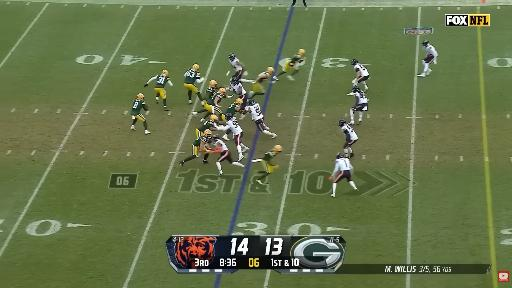Helmet: (209, 114, 217, 122), (230, 77, 238, 85), (352, 85, 360, 93), (273, 146, 282, 153), (267, 67, 276, 74), (204, 130, 211, 138), (225, 113, 232, 121), (297, 49, 305, 56), (247, 98, 254, 106), (210, 80, 217, 87), (219, 88, 226, 95), (339, 119, 346, 126), (193, 65, 200, 71), (230, 53, 236, 60), (213, 135, 219, 142), (236, 99, 243, 105), (352, 59, 358, 66), (336, 153, 342, 160), (137, 94, 144, 99), (162, 70, 168, 75)
Jersey: (245, 102, 264, 121), (333, 158, 353, 174), (226, 117, 242, 135), (342, 124, 358, 140), (184, 68, 200, 84), (131, 99, 145, 115), (354, 63, 369, 76), (425, 44, 437, 60), (207, 93, 223, 105), (198, 120, 214, 132), (354, 91, 367, 105), (231, 83, 246, 95), (155, 75, 170, 87), (205, 86, 218, 99), (193, 136, 209, 146), (230, 58, 242, 71), (215, 139, 228, 151), (226, 103, 240, 114), (258, 71, 270, 83), (290, 55, 303, 66), (263, 152, 276, 163)
Player: (244, 99, 276, 138), (329, 153, 357, 197), (192, 88, 229, 121), (213, 135, 244, 174), (224, 114, 249, 161), (144, 70, 172, 110), (180, 130, 211, 166), (257, 145, 281, 184), (275, 49, 305, 80), (184, 64, 204, 104), (249, 67, 274, 98), (131, 94, 150, 134), (339, 119, 358, 157), (418, 40, 437, 77), (350, 86, 368, 124), (351, 59, 370, 91), (229, 77, 247, 106), (196, 115, 218, 138), (221, 99, 242, 121), (203, 80, 219, 104), (229, 54, 243, 78)
